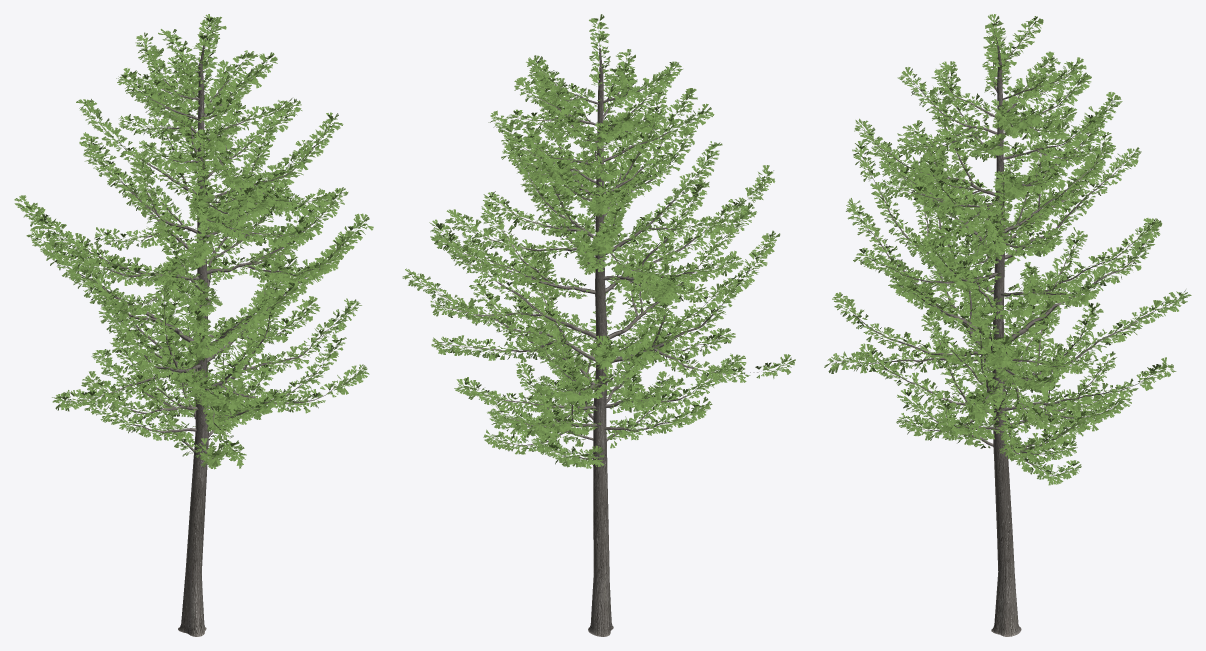
Rendered from tree.glb.
3 renders of one model, left to right at view 1: azimuth 30°, elevation 25°; view 2: azimuth 150°, elevation 25°; view 3: azimuth 270°, elevation 25°, orthographic. The views are drawn at different scales.
Visible parts, largest first — view 1: Obj3d66-629919-1593-687; view 2: Obj3d66-629919-1593-687; view 3: Obj3d66-629919-1593-687.
Part boxes in pixels (left/top/right/bottom): Obj3d66-629919-1593-687: left=14, top=14, right=373, bottom=636; Obj3d66-629919-1593-687: left=402, top=14, right=795, bottom=636; Obj3d66-629919-1593-687: left=824, top=14, right=1191, bottom=636.
Bounding box in the file's own units: 4.69 × 7.92 × 4.26.
Materials: 6 (5 with a texture image).
